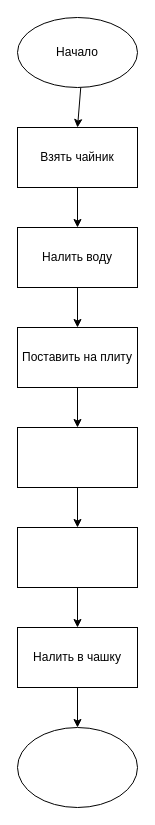
Image size: 155x825. Some labels were removed from this diagram. The box of each missing label's shape, as (x1, y1, x2, y2) in pixels:
Включить плиту: (16, 426, 138, 488)
Дождаться закипания: (16, 526, 138, 588)
